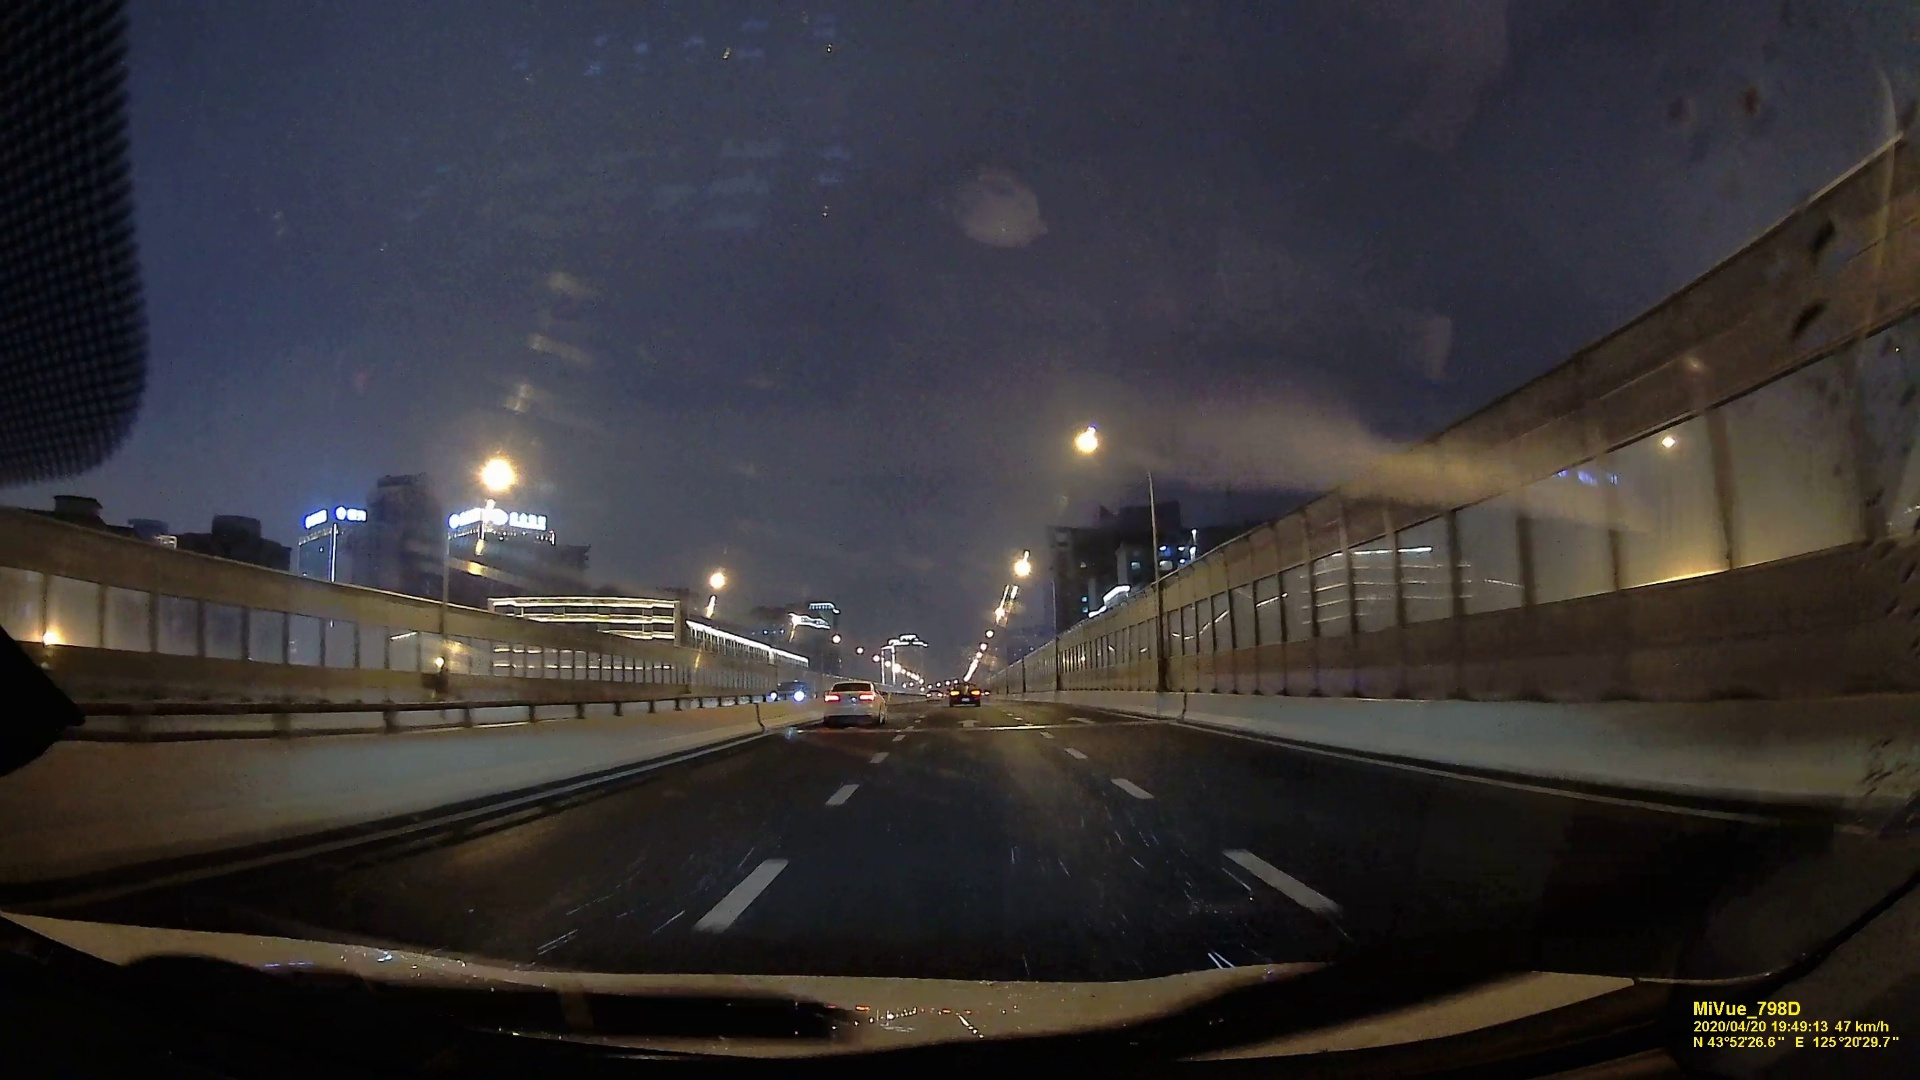vehicle: (820, 680, 884, 723), (765, 680, 814, 705), (949, 684, 978, 705)
